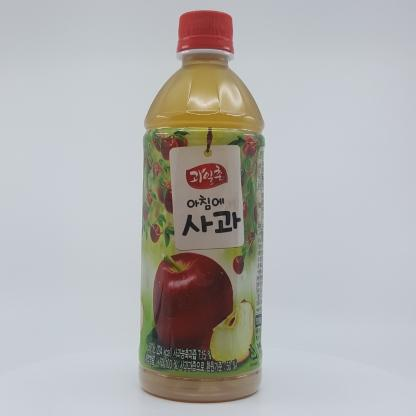--------500ML: (138, 10, 265, 403)
